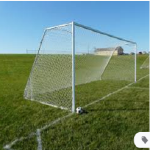goals: (23, 20, 140, 113)
